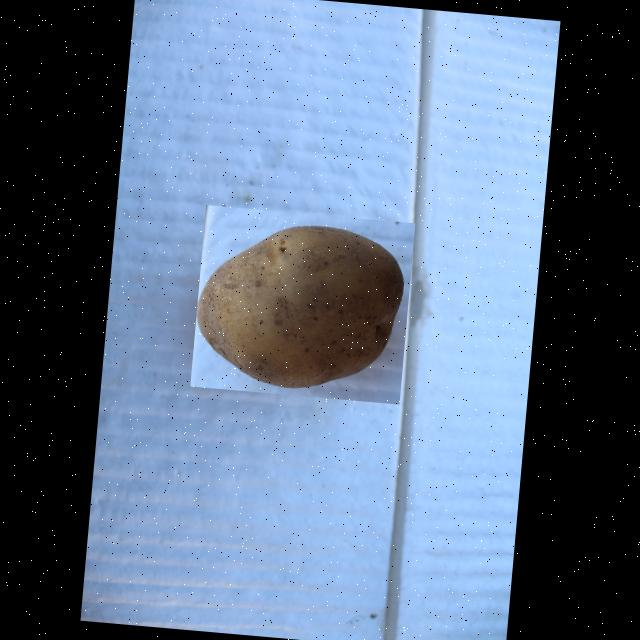Diseased-fungal potato: (190, 204, 415, 404)
